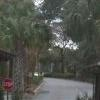Tree: (50, 1, 100, 72)
